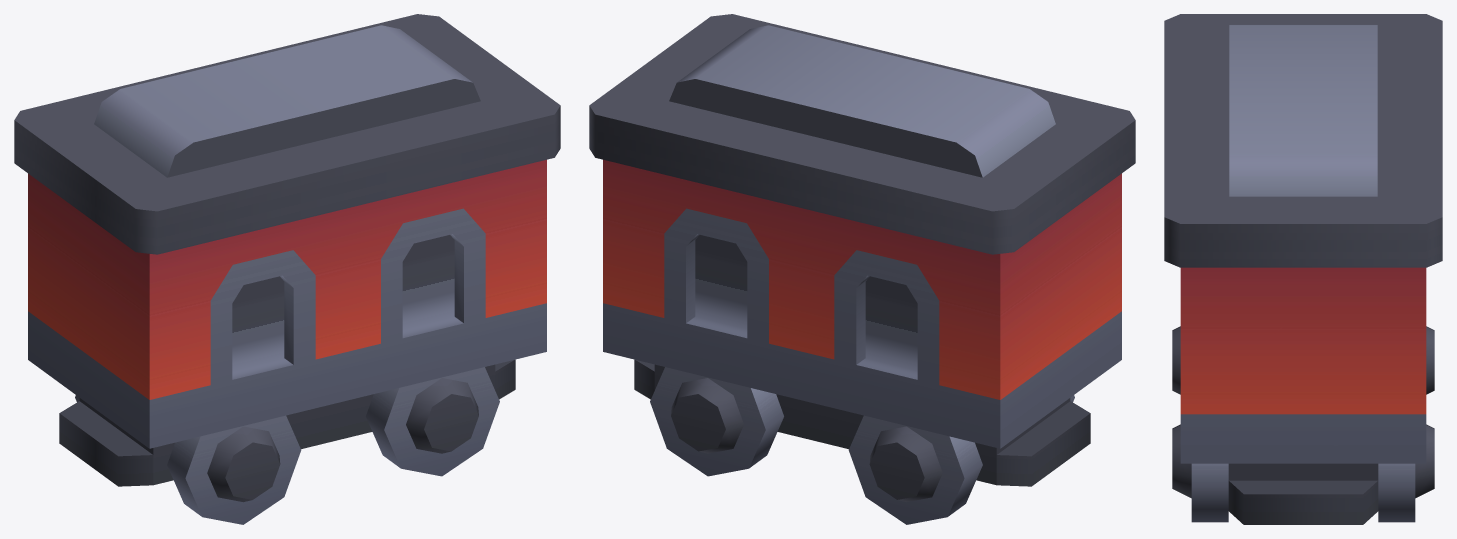
Rendered from kenney-holiday-train-wagon-short.glb.
3 renders of one model, left to right at view 1: azimuth 30°, elevation 25°; view 2: azimuth 150°, elevation 25°; view 3: azimuth 270°, elevation 25°, orthographic.
Parts seen in each view (by area): view 1: train-wagon-short; view 2: train-wagon-short; view 3: train-wagon-short.
Boxes of the visible parts, bbox=[...] form: train-wagon-short: bbox=[14, 14, 560, 524]; train-wagon-short: bbox=[589, 14, 1135, 524]; train-wagon-short: bbox=[1164, 14, 1442, 524].
Bounding box in the file's own units: 0.3697 × 0.313 × 0.207.
Materials: 1 (1 with a texture image).
